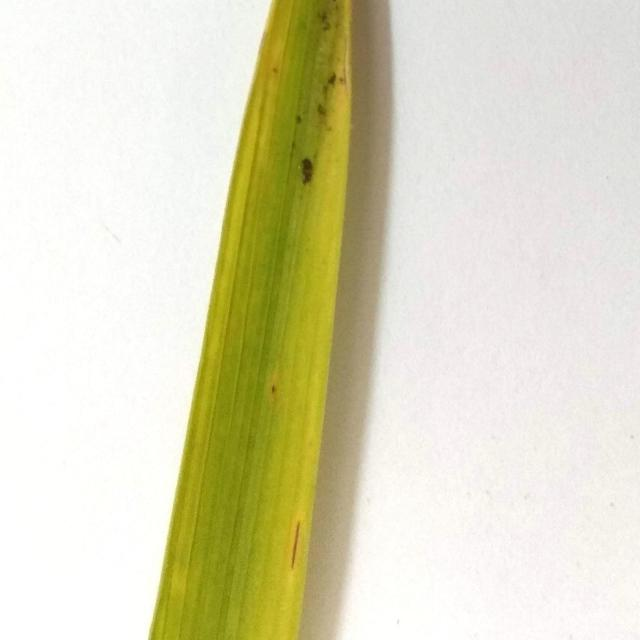Brown spot: (148, 0, 466, 640)
